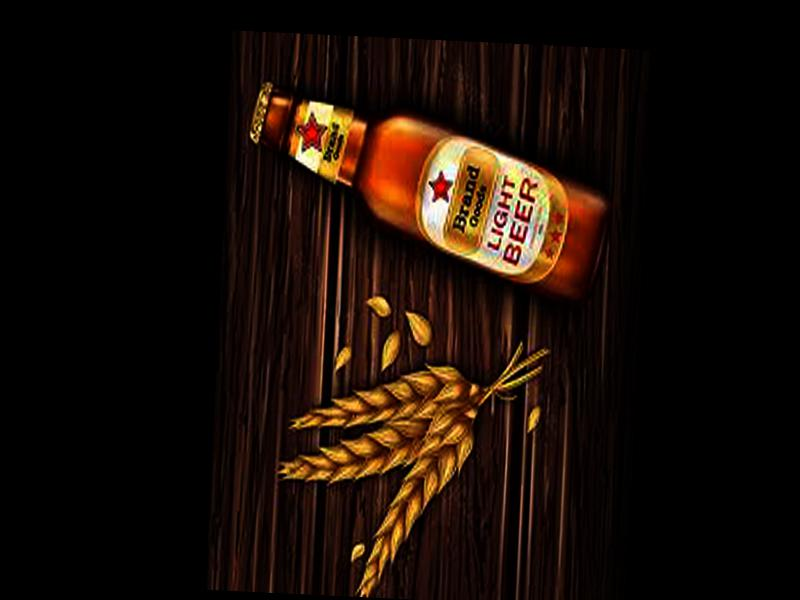Beer: (241, 78, 614, 306)
